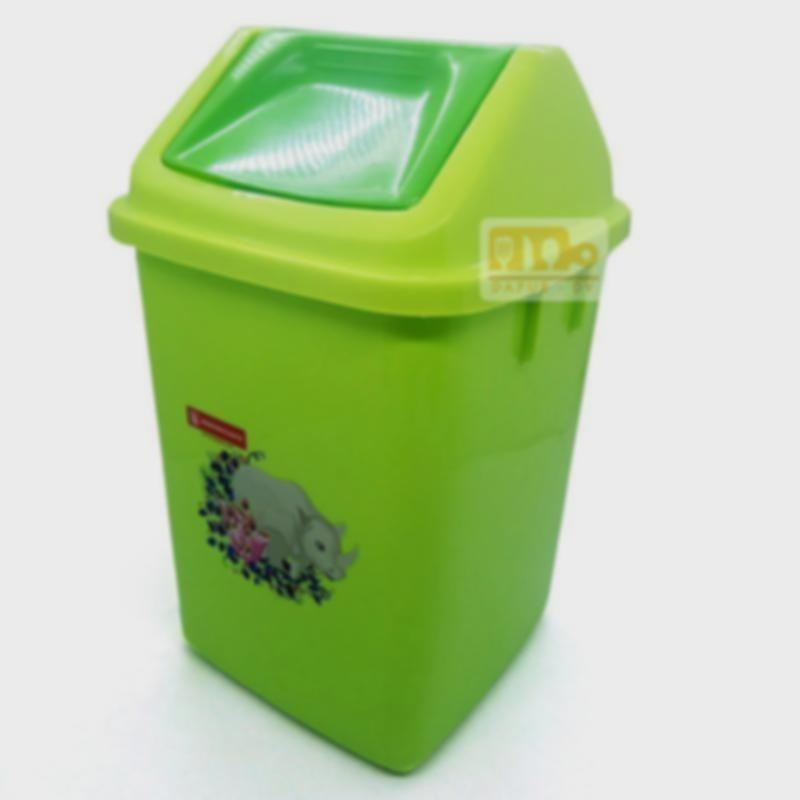Bote de Basura: (112, 11, 629, 778)
